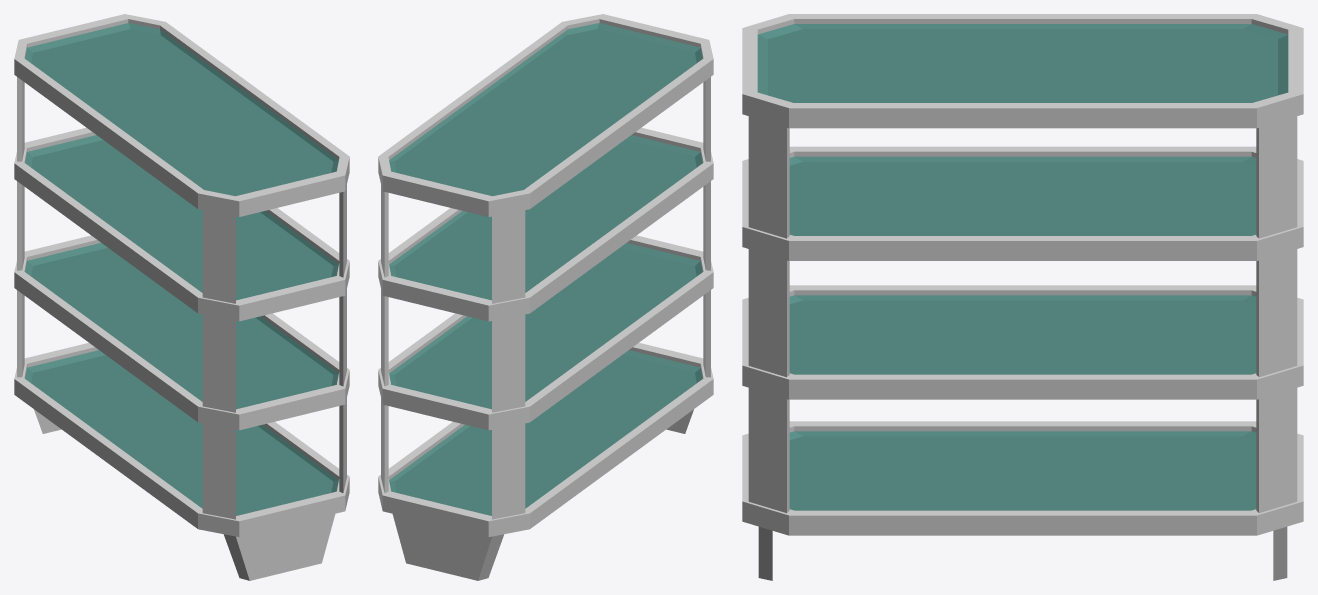
File: Полки для хранения.fbx
3 views of the same model, side by side, from view 1: azimuth 30°, elevation 25°; view 2: azimuth 150°, elevation 25°; view 3: azimuth 270°, elevation 25° (orthographic). The views are drawn at different scales.
Visible parts, largest first — view 1: Cube.002, Cube.001, Cube; view 2: Cube.002, Cube.001, Cube; view 3: Cube.002, Cube, Cube.001.
Boxes of the visible parts, x1=… form: Cube.002: x1=14, y1=77, x2=349, y2=430; Cube.001: x1=14, y1=14, x2=349, y2=216; Cube: x1=14, y1=290, x2=349, y2=580; Cube.002: x1=378, y1=77, x2=713, y2=430; Cube.001: x1=378, y1=14, x2=713, y2=216; Cube: x1=378, y1=290, x2=713, y2=580; Cube.002: x1=742, y1=116, x2=1303, y2=399; Cube: x1=742, y1=388, x2=1303, y2=580; Cube.001: x1=742, y1=14, x2=1303, y2=128.
Size of the model in its own units: 120 by 294 by 302.
